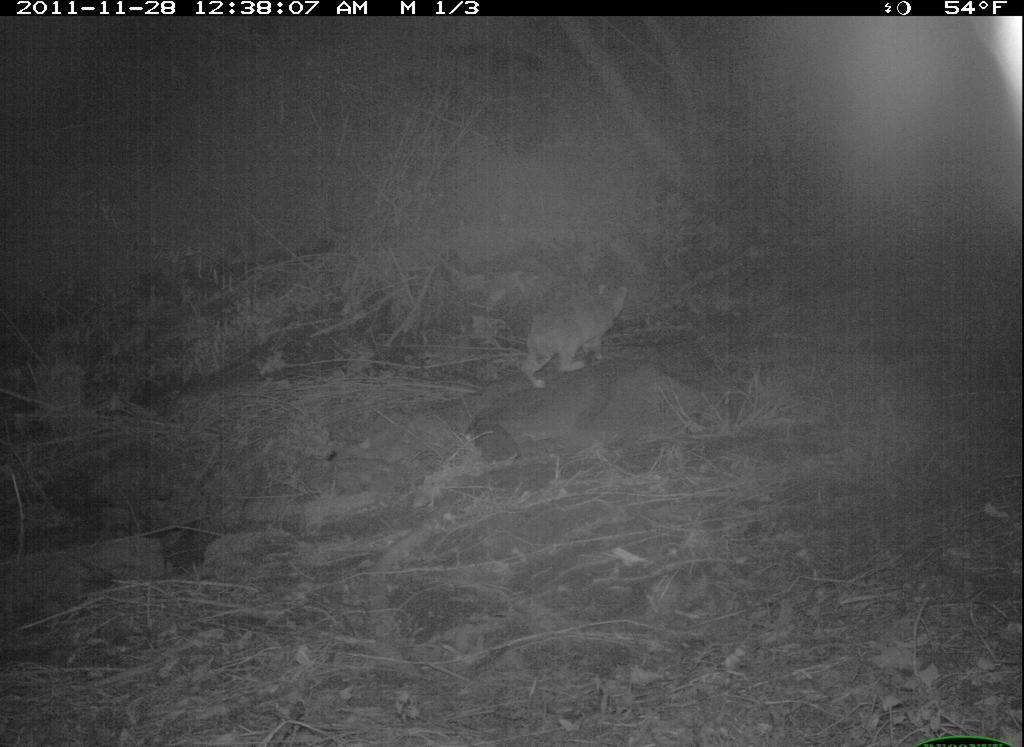bobcat: (513, 273, 643, 393)
